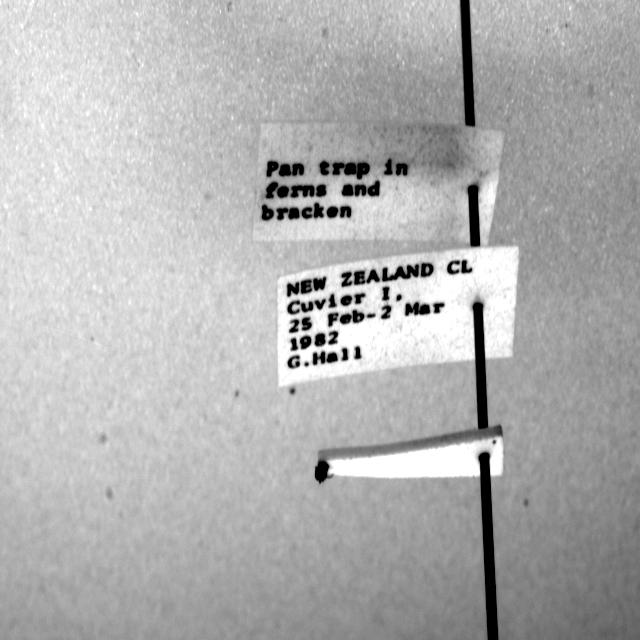typed_label: (278, 248, 519, 386), (254, 122, 505, 246)
